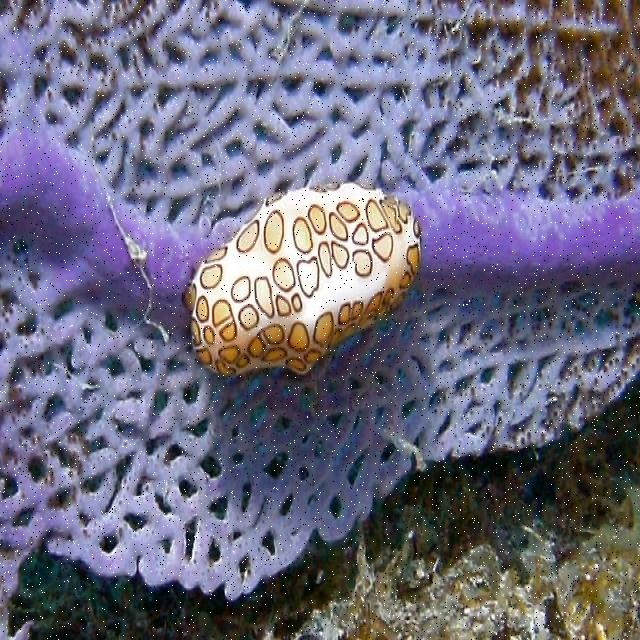reefs: (181, 178, 422, 375)
